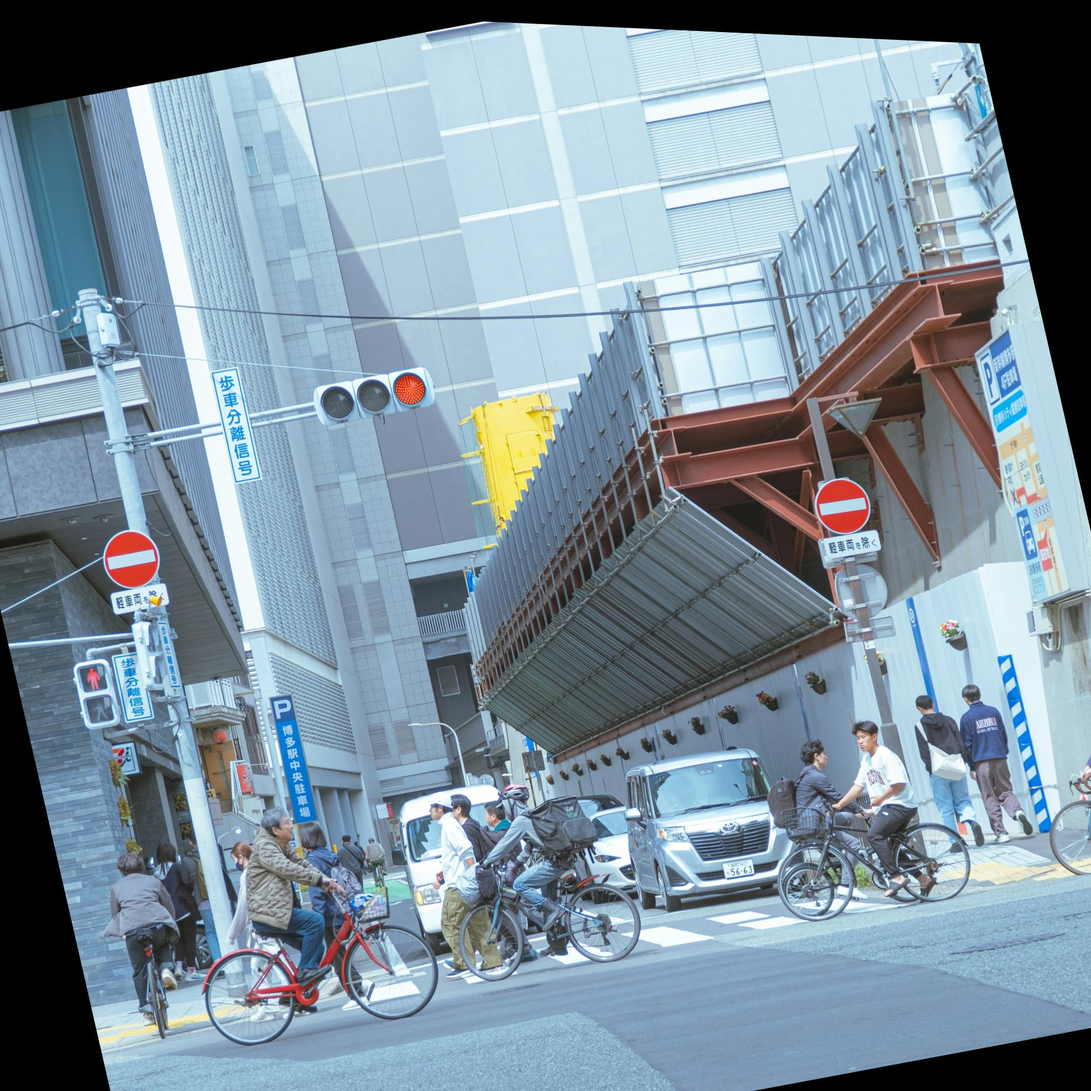barrier: (92, 519, 172, 599), (808, 471, 877, 542)
